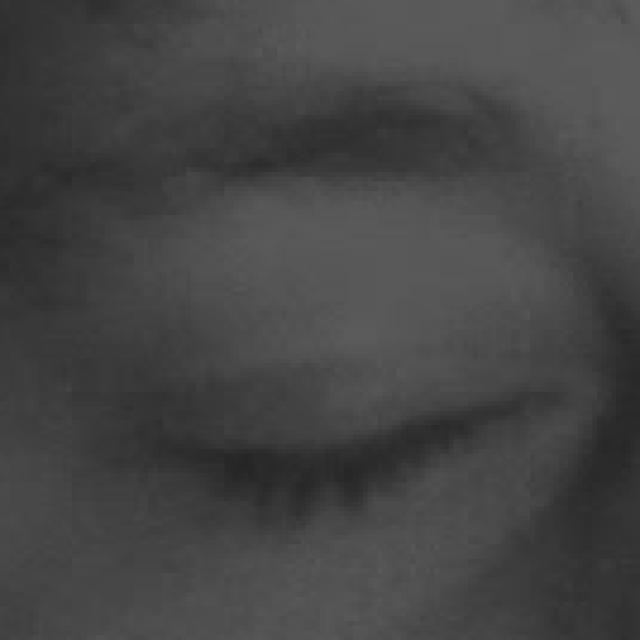Eyeclosed: (162, 257, 539, 640)
